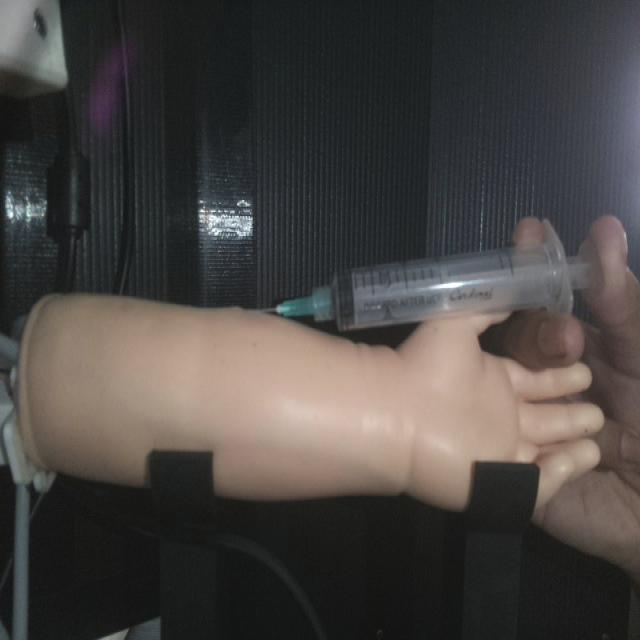Below 15 degrees: (260, 221, 631, 335)
